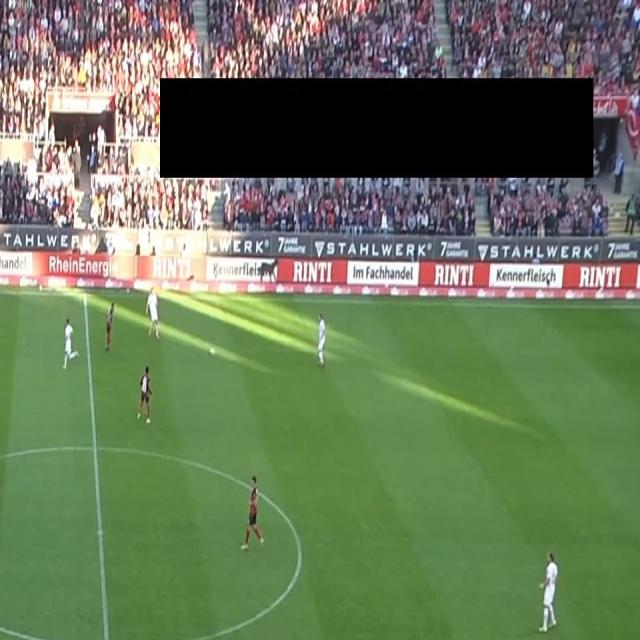ball: (208, 348, 216, 358)
